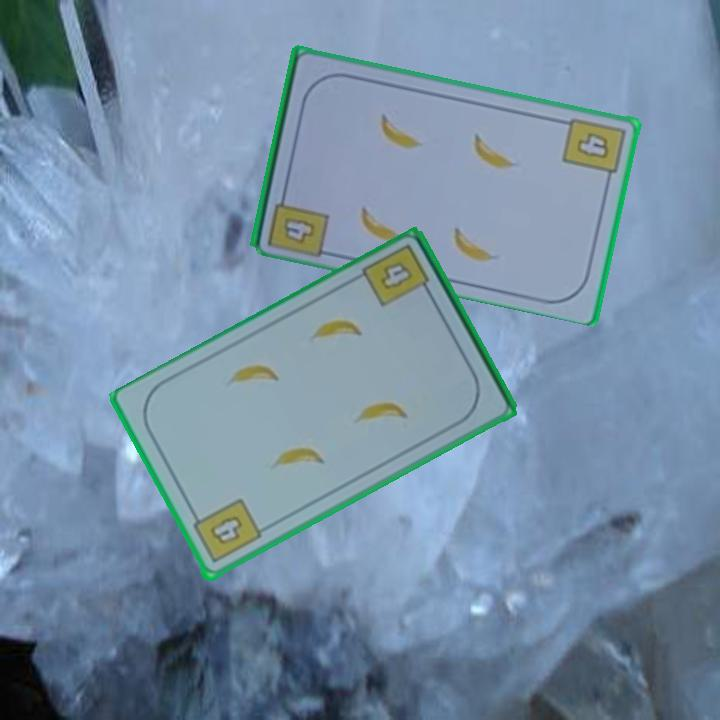4b: (187, 495, 264, 567), (359, 241, 437, 311), (559, 113, 628, 186), (280, 213, 319, 246)
